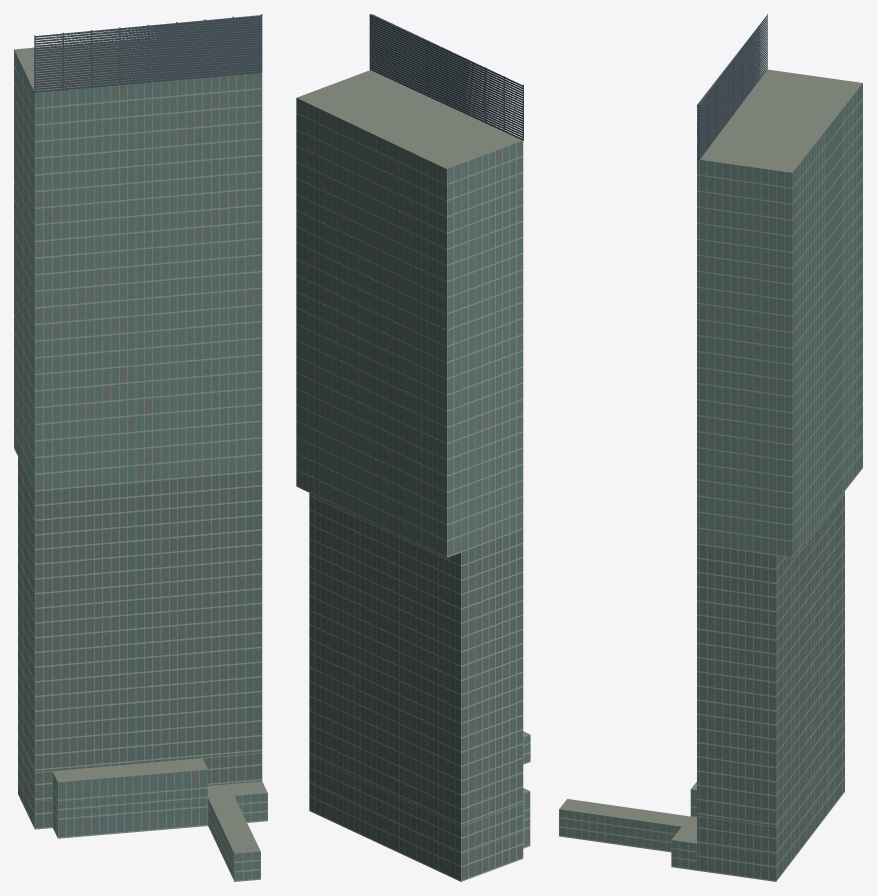
File: beetham-tower-manchester-near.glb
3 renders of one model, left to right at view 1: azimuth 30°, elevation 25°; view 2: azimuth 150°, elevation 25°; view 3: azimuth 270°, elevation 25°, orthographic. The views are drawn at different scales.
Visible parts, largest first — view 1: beetham-tower-manchester-0-glass, beetham-tower-manchester-0-hotel, beetham-tower-manchester-0-frame, beetham-tower-manchester-0-opaque, beetham-tower-manchester-0-steel, beetham-tower-manchester-0-roof; view 2: beetham-tower-manchester-0-glass, beetham-tower-manchester-0-hotel, beetham-tower-manchester-0-frame, beetham-tower-manchester-0-opaque, beetham-tower-manchester-0-roof, beetham-tower-manchester-0-steel; view 3: beetham-tower-manchester-0-glass, beetham-tower-manchester-0-hotel, beetham-tower-manchester-0-frame, beetham-tower-manchester-0-roof, beetham-tower-manchester-0-opaque, beetham-tower-manchester-0-steel.
Part boxes in pixels (x1,y1,x2,y2): beetham-tower-manchester-0-glass: [14, 50, 267, 880]; beetham-tower-manchester-0-hotel: [18, 457, 261, 827]; beetham-tower-manchester-0-frame: [14, 50, 267, 881]; beetham-tower-manchester-0-opaque: [14, 75, 267, 879]; beetham-tower-manchester-0-steel: [34, 14, 262, 92]; beetham-tower-manchester-0-roof: [14, 39, 267, 853]; beetham-tower-manchester-0-glass: [296, 101, 530, 846]; beetham-tower-manchester-0-hotel: [309, 493, 522, 880]; beetham-tower-manchester-0-frame: [296, 98, 530, 881]; beetham-tower-manchester-0-opaque: [296, 98, 530, 846]; beetham-tower-manchester-0-roof: [296, 70, 529, 793]; beetham-tower-manchester-0-steel: [369, 14, 523, 140]; beetham-tower-manchester-0-glass: [559, 83, 862, 867]; beetham-tower-manchester-0-hotel: [697, 491, 844, 880]; beetham-tower-manchester-0-frame: [559, 92, 862, 881]; beetham-tower-manchester-0-roof: [559, 69, 862, 843]; beetham-tower-manchester-0-opaque: [567, 92, 862, 869]; beetham-tower-manchester-0-steel: [697, 14, 767, 159].
Bounding box in the file's own units: 49.06 × 169 × 60.79.
